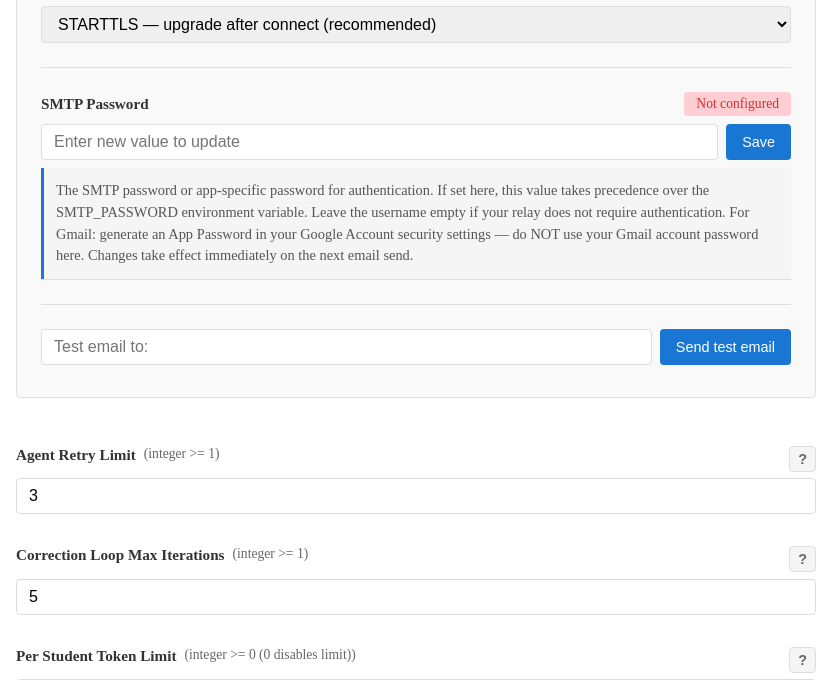
Test: SystemConfigView › test-send button sends POST request and displays success result
(page scrolled)
Type "admin@example.com" into the field with class "test-email-input".
click(346, 347); type("admin@example.com")  # box 41,329 -> 652,365
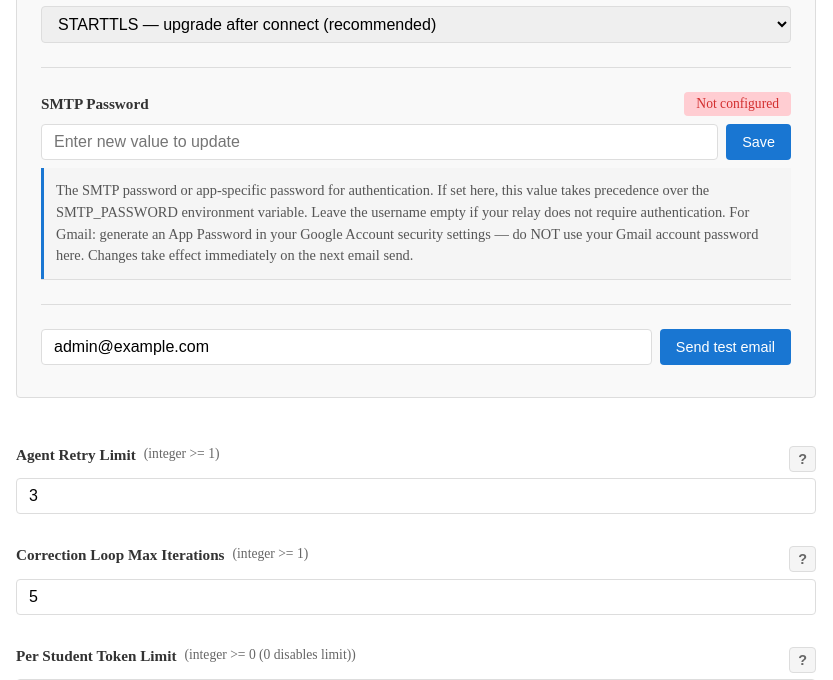
Click the button with class "test-email-button".
click(725, 347)  # box 660,329 -> 791,365
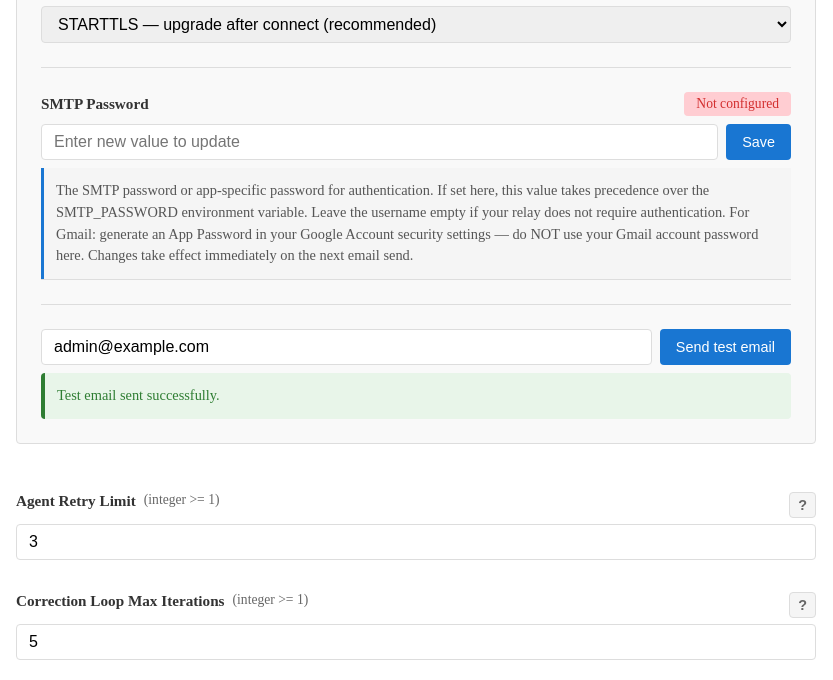
Now the text "Test email sent successfully." is shown, box 41,373 -> 791,418
Now the text with class "success" reads "Test email sent successfully.", box 57,387 -> 220,403
